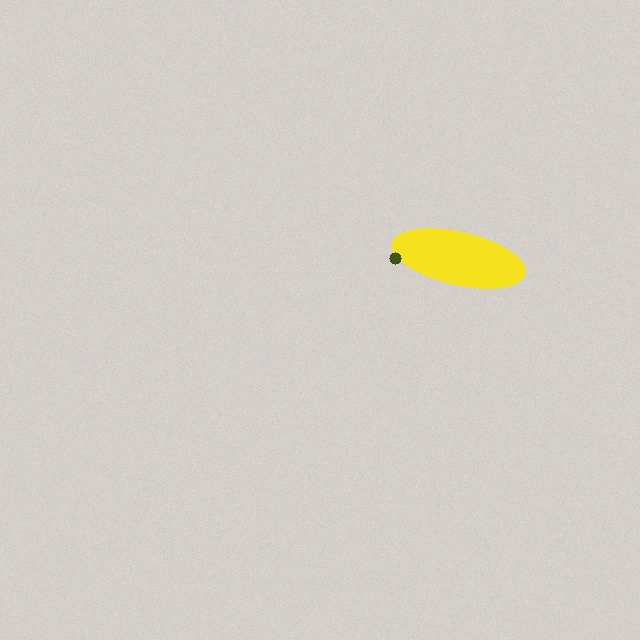Fresh banana: (387, 226, 529, 290)
